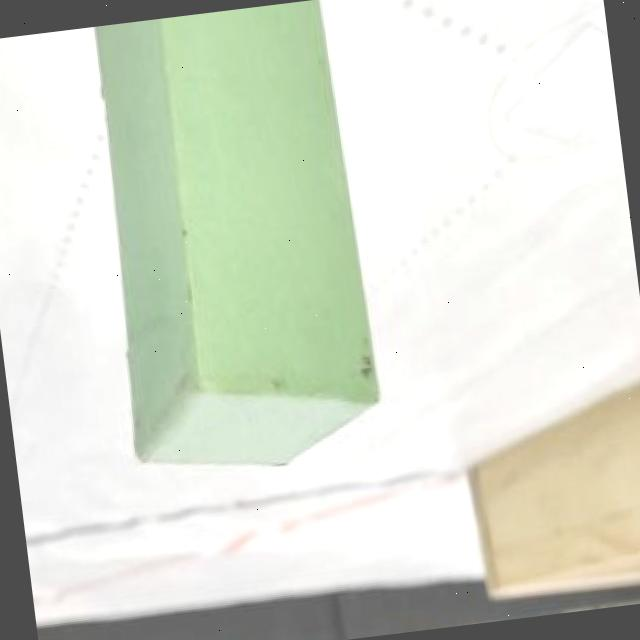greenbox: (75, 0, 396, 493)
